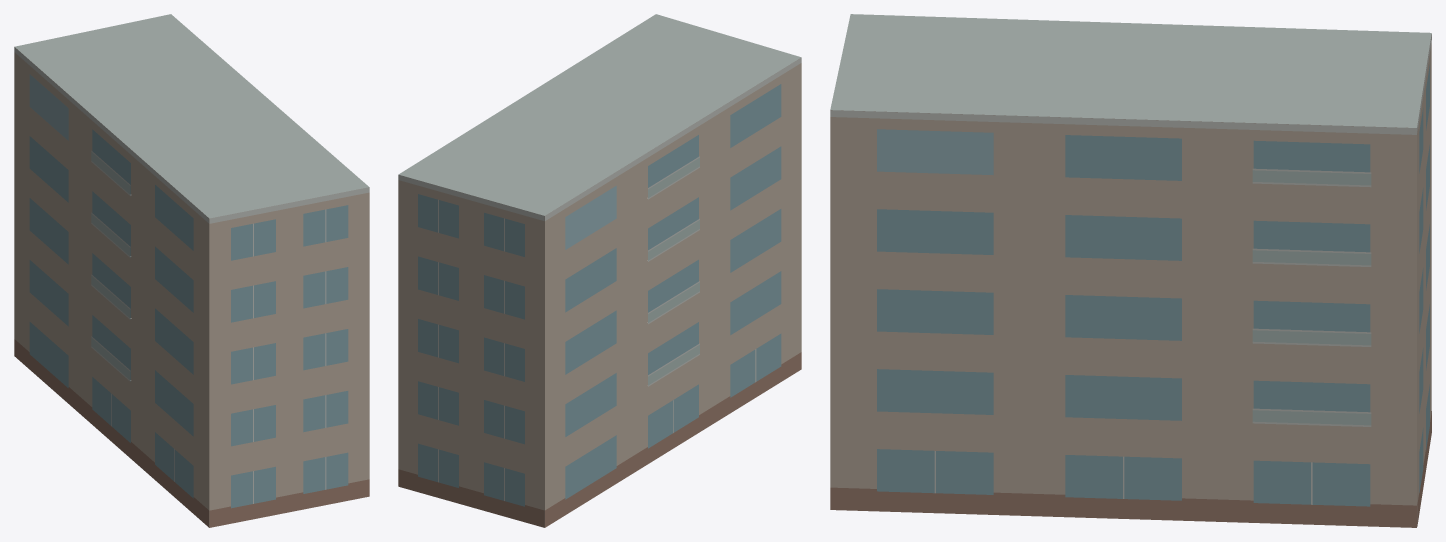
Rendered from survey-upis-32957308.glb.
3 renders of one model, left to right at view 1: azimuth 30°, elevation 25°; view 2: azimuth 150°, elevation 25°; view 3: azimuth 270°, elevation 25°, orthographic. The views are drawn at different scales.
Parts seen in each view (by area): view 1: survey-upis-32957308.tmp; view 2: survey-upis-32957308.tmp; view 3: survey-upis-32957308.tmp.
Part boxes in pixels (x1,y1,x2,y2): survey-upis-32957308.tmp: (14,14,369,527); survey-upis-32957308.tmp: (398,14,801,527); survey-upis-32957308.tmp: (830,14,1431,527).
Size of the model in its own units: 8.64 by 14.1 by 19.24.
